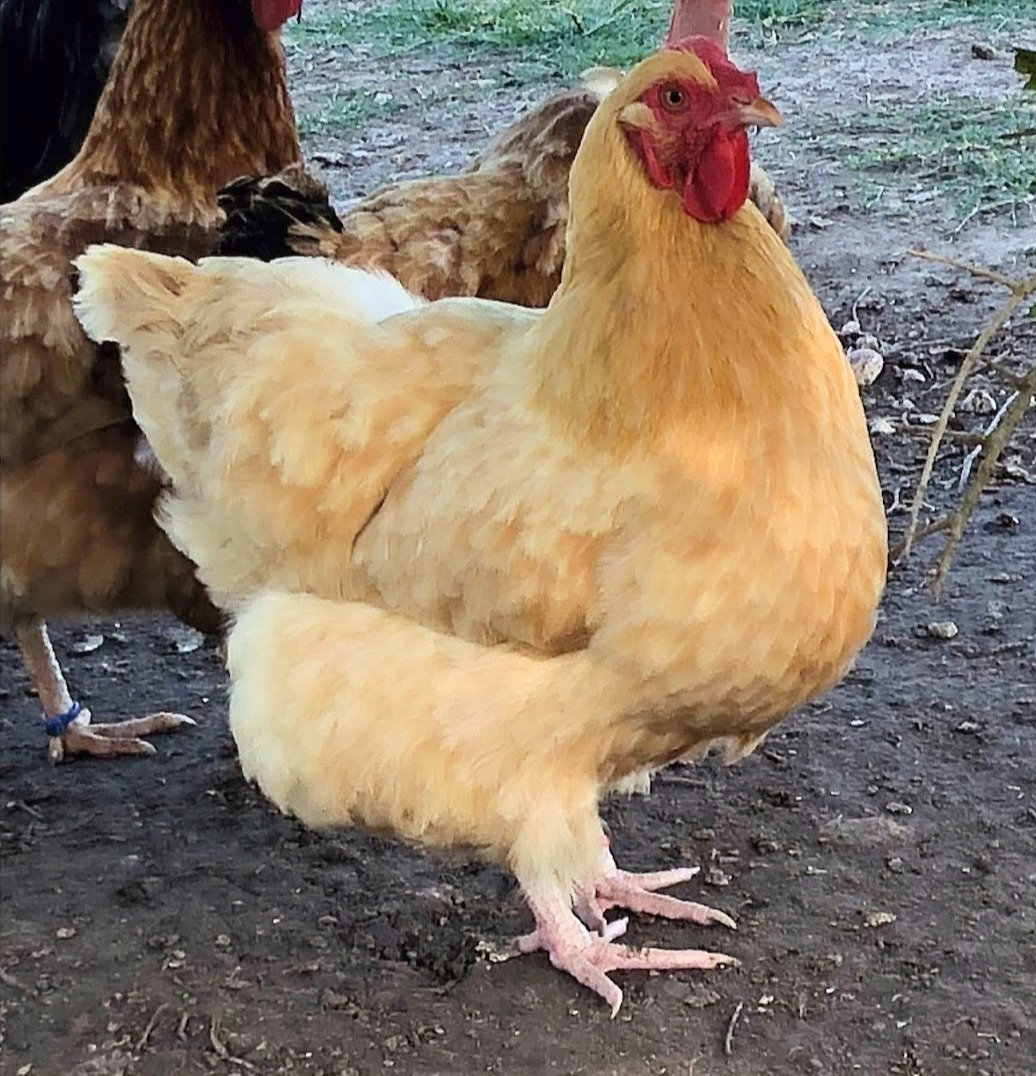buff: (48, 40, 884, 1006)
